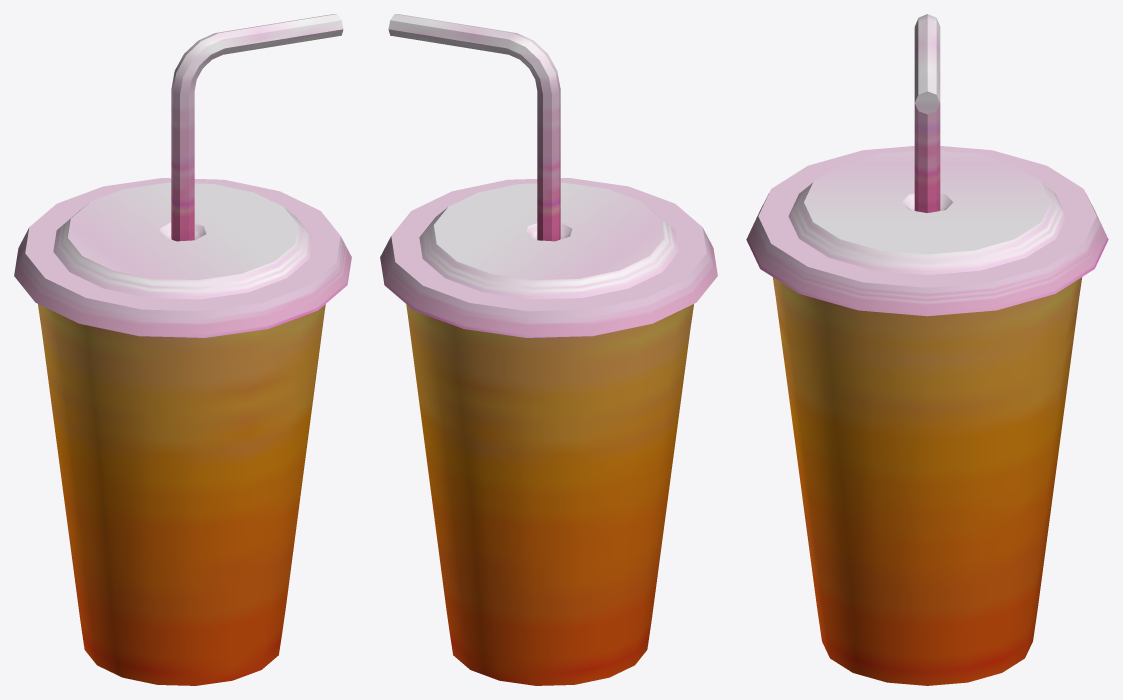
Rendered from drink.glb.
3 renders of one model, left to right at view 1: azimuth 30°, elevation 25°; view 2: azimuth 150°, elevation 25°; view 3: azimuth 270°, elevation 25°, orthographic. The views are drawn at different scales.
Parts seen in each view (by area): view 1: Soda_Drink; view 2: Soda_Drink; view 3: Soda_Drink.
Boxes of the visible parts, box(x1,y1,x2,y2) form: Soda_Drink: box(14, 14, 351, 685); Soda_Drink: box(380, 14, 717, 685); Soda_Drink: box(746, 14, 1108, 685).
Bounding box in the file's own units: 0.6866 × 1.31 × 0.6706.
1 material, 1 textured.
